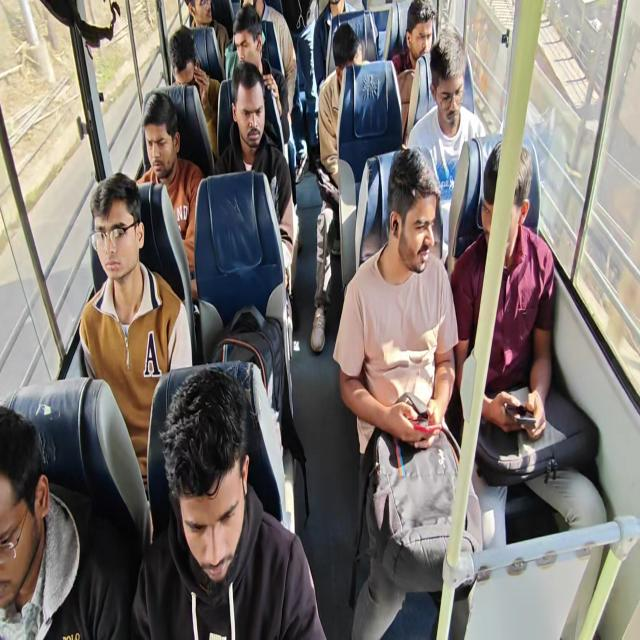person: (143, 362, 247, 624), (0, 409, 87, 640), (89, 186, 157, 344), (384, 154, 446, 296), (468, 137, 541, 249), (224, 73, 274, 161), (138, 96, 176, 180), (434, 34, 471, 109), (219, 22, 265, 82), (168, 30, 202, 109), (184, 0, 226, 50), (332, 24, 367, 82), (403, 5, 439, 61), (283, 0, 313, 54), (236, 0, 277, 34), (324, 0, 360, 27)
